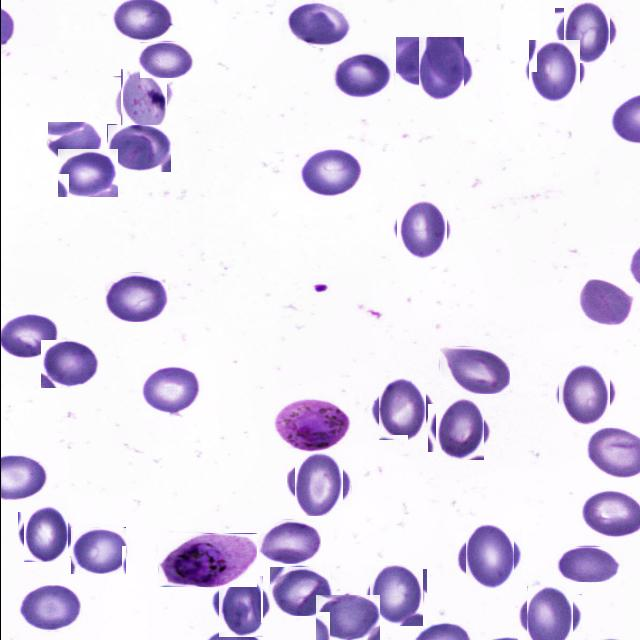difficult: (272, 399, 350, 452)
red blood cell: (438, 346, 509, 394), (297, 148, 362, 200), (140, 364, 202, 418), (524, 43, 582, 100), (367, 567, 424, 625), (460, 528, 517, 585), (554, 366, 612, 422), (103, 272, 167, 322), (393, 200, 450, 256), (284, 0, 350, 48), (268, 566, 331, 616), (290, 456, 346, 512), (394, 36, 456, 86), (431, 401, 487, 456), (106, 124, 170, 172), (332, 50, 394, 99), (558, 4, 614, 58), (314, 594, 379, 640), (56, 148, 117, 197), (413, 42, 468, 96), (374, 382, 428, 436), (116, 72, 170, 126), (256, 519, 320, 564), (18, 586, 80, 632), (575, 280, 634, 328), (213, 580, 266, 633), (521, 589, 576, 640), (40, 340, 98, 388), (69, 527, 125, 574), (20, 509, 71, 559), (46, 121, 100, 163), (556, 547, 620, 582), (139, 42, 194, 78)
schizont: (157, 533, 256, 587)
